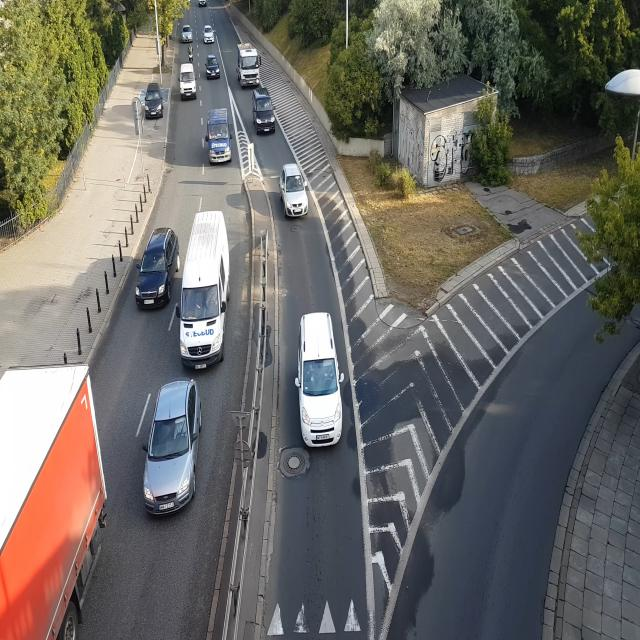car: (137, 373, 205, 518), (290, 312, 350, 454), (183, 208, 229, 370), (130, 220, 177, 318), (279, 156, 314, 225), (206, 106, 233, 161), (252, 90, 279, 137), (178, 63, 198, 103), (144, 82, 164, 118), (204, 56, 225, 79), (203, 22, 216, 52), (183, 26, 196, 46), (196, 0, 209, 9)
motorcycle: (185, 41, 195, 61)
truck: (236, 39, 265, 86)
